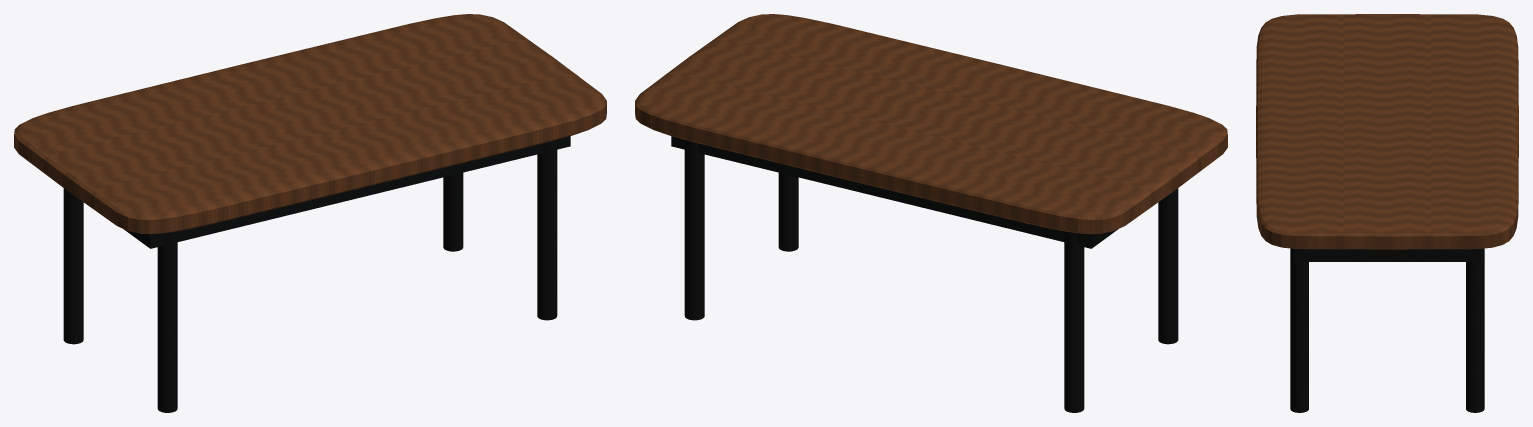
The model's file is dining-table-1800_lod1.glb.
3 views of the same model, side by side, from view 1: azimuth 30°, elevation 25°; view 2: azimuth 150°, elevation 25°; view 3: azimuth 270°, elevation 25° (orthographic). The views are drawn at different scales.
Parts seen in each view (by area): view 1: top, apron, leg_3, leg_4, leg_1, leg_2; view 2: top, apron, leg_1, leg_2, leg_3, leg_4; view 3: top, leg_4, leg_2, apron.
Part boxes in pixels (<box>): top: <box>14,14,606,234</box>; apron: <box>124,136,570,248</box>; leg_3: <box>157,231,177,412</box>; leg_4: <box>537,140,557,320</box>; leg_1: <box>63,188,83,344</box>; leg_2: <box>443,172,463,251</box>; top: <box>635,14,1227,234</box>; apron: <box>671,136,1117,248</box>; leg_1: <box>1064,231,1084,412</box>; leg_2: <box>684,140,704,320</box>; leg_3: <box>1158,188,1178,344</box>; leg_4: <box>778,172,798,251</box>; top: <box>1256,14,1518,249</box>; leg_4: <box>1290,248,1308,412</box>; leg_2: <box>1466,248,1484,412</box>; apron: <box>1294,249,1480,261</box>.
Size of the model in its own units: 1.8 by 0.76 by 0.9.
Materials: 2 (2 with a texture image).
